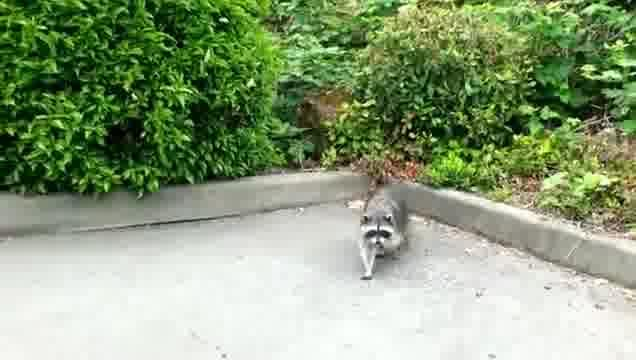raccoon: (358, 191, 413, 281)
